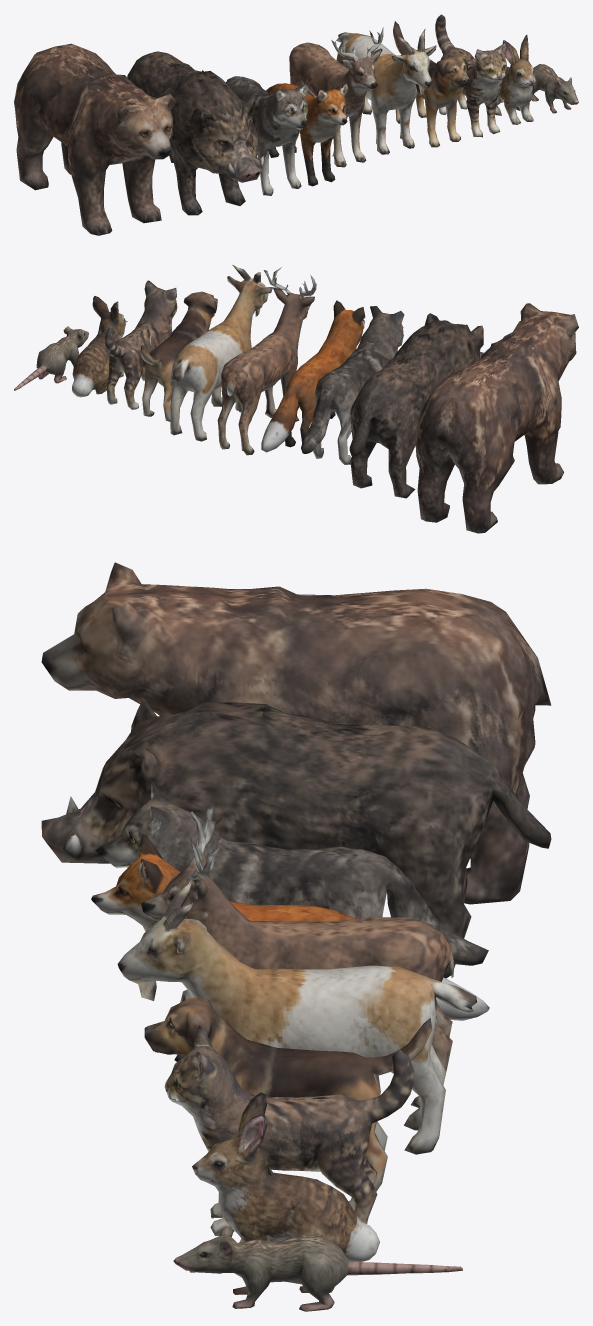
Rendered from Retro_PS1_Animal_Pack_Low_Poly_Bundle.glb.
3 views of the same model, one above another, from view 1: azimuth 30°, elevation 25°; view 2: azimuth 150°, elevation 25°; view 3: azimuth 270°, elevation 25° (orthographic). The views are drawn at different scales.
Visible parts, largest first — view 1: PS1_A_Bear_PS1_A_Bear_0, PS1_A_Boar_PS1_A_Boar_0, PS1_A_Goat_PS1_A_Goat_0, PS1_A_Deer_PS1_A_Deer_0, PS1_A_Wolf_PS1_A_Wolf_0, PS1_A_Cat_PS1_A_Cat_0, PS1_A_Fox_PS1_A_Fox_0, PS1_A_Dog_PS1_A_Dog_0, PS1_A_Rabbit_PS1_A_Rabbit_0, PS1_A_Rat_PS1_A_Rat_0; view 2: PS1_A_Bear_PS1_A_Bear_0, PS1_A_Boar_PS1_A_Boar_0, PS1_A_Deer_PS1_A_Deer_0, PS1_A_Goat_PS1_A_Goat_0, PS1_A_Wolf_PS1_A_Wolf_0, PS1_A_Fox_PS1_A_Fox_0, PS1_A_Cat_PS1_A_Cat_0, PS1_A_Dog_PS1_A_Dog_0, PS1_A_Rabbit_PS1_A_Rabbit_0, PS1_A_Rat_PS1_A_Rat_0; view 3: PS1_A_Bear_PS1_A_Bear_0, PS1_A_Boar_PS1_A_Boar_0, PS1_A_Goat_PS1_A_Goat_0, PS1_A_Wolf_PS1_A_Wolf_0, PS1_A_Cat_PS1_A_Cat_0, PS1_A_Deer_PS1_A_Deer_0, PS1_A_Rabbit_PS1_A_Rabbit_0, PS1_A_Dog_PS1_A_Dog_0, PS1_A_Rat_PS1_A_Rat_0, PS1_A_Fox_PS1_A_Fox_0.
Boxes of the visible parts, x1,y1,x2,y2 form: PS1_A_Bear_PS1_A_Bear_0: [14, 43, 176, 235]; PS1_A_Boar_PS1_A_Boar_0: [127, 51, 264, 215]; PS1_A_Goat_PS1_A_Goat_0: [336, 28, 436, 154]; PS1_A_Deer_PS1_A_Deer_0: [289, 27, 383, 167]; PS1_A_Wolf_PS1_A_Wolf_0: [226, 76, 309, 195]; PS1_A_Cat_PS1_A_Cat_0: [435, 14, 506, 137]; PS1_A_Fox_PS1_A_Fox_0: [266, 82, 348, 186]; PS1_A_Dog_PS1_A_Dog_0: [393, 21, 469, 147]; PS1_A_Rabbit_PS1_A_Rabbit_0: [484, 35, 535, 124]; PS1_A_Rat_PS1_A_Rat_0: [531, 64, 578, 113]; PS1_A_Bear_PS1_A_Bear_0: [415, 303, 578, 533]; PS1_A_Boar_PS1_A_Boar_0: [349, 313, 483, 498]; PS1_A_Deer_PS1_A_Deer_0: [217, 267, 316, 455]; PS1_A_Goat_PS1_A_Goat_0: [170, 265, 272, 441]; PS1_A_Wolf_PS1_A_Wolf_0: [301, 306, 404, 464]; PS1_A_Fox_PS1_A_Fox_0: [261, 300, 365, 452]; PS1_A_Cat_PS1_A_Cat_0: [105, 280, 177, 409]; PS1_A_Dog_PS1_A_Dog_0: [140, 291, 217, 421]; PS1_A_Rabbit_PS1_A_Rabbit_0: [72, 296, 127, 397]; PS1_A_Rat_PS1_A_Rat_0: [14, 326, 88, 390]; PS1_A_Bear_PS1_A_Bear_0: [41, 562, 551, 904]; PS1_A_Boar_PS1_A_Boar_0: [41, 698, 551, 978]; PS1_A_Goat_PS1_A_Goat_0: [117, 877, 476, 1154]; PS1_A_Wolf_PS1_A_Wolf_0: [95, 781, 488, 1002]; PS1_A_Cat_PS1_A_Cat_0: [164, 1025, 414, 1235]; PS1_A_Deer_PS1_A_Deer_0: [141, 803, 453, 1107]; PS1_A_Rabbit_PS1_A_Rabbit_0: [192, 1092, 379, 1261]; PS1_A_Dog_PS1_A_Dog_0: [144, 997, 431, 1191]; PS1_A_Rat_PS1_A_Rat_0: [173, 1226, 462, 1311]; PS1_A_Fox_PS1_A_Fox_0: [91, 834, 489, 1061].
Bounding box in the file's own units: 4.53 × 1.24 × 2.
10 materials, 10 textured.
